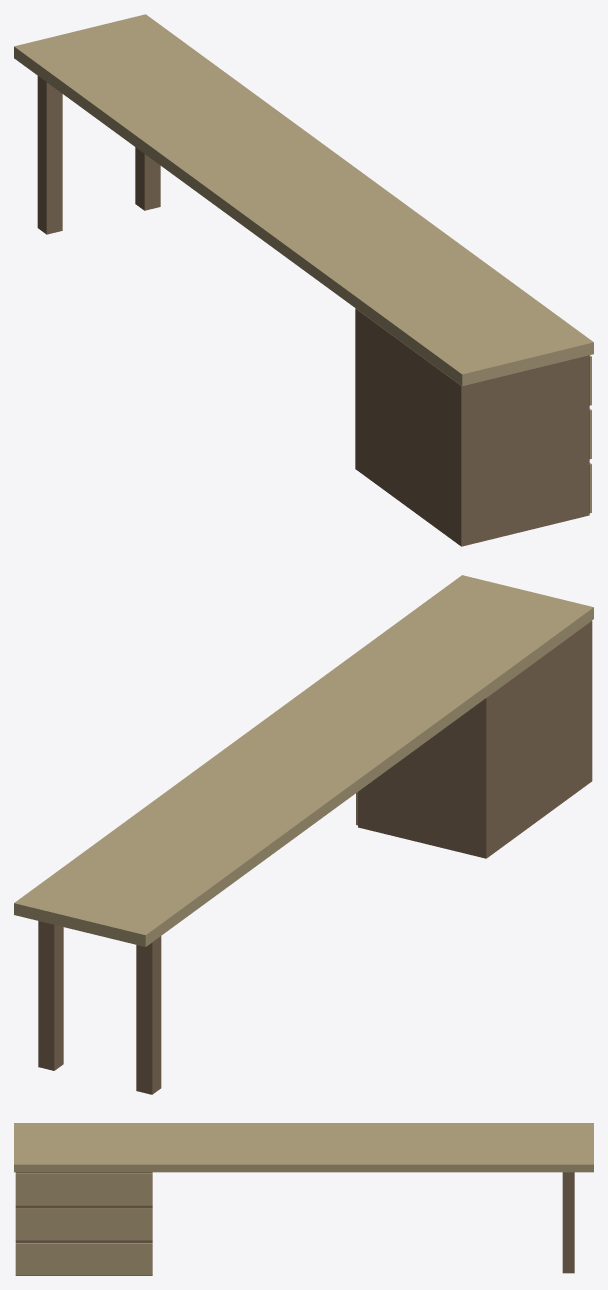
Rendered from Table_Big.fbx.
3 views of the same model, one above another, from view 1: azimuth 30°, elevation 25°; view 2: azimuth 150°, elevation 25°; view 3: azimuth 270°, elevation 25° (orthographic). The views are drawn at different scales.
Visible parts, largest first — view 1: Cube.014; view 2: Cube.014; view 3: Cube.014.
Part boxes in pixels (box(x1,y1,x2,y2)): Cube.014: box(14, 14, 593, 546); Cube.014: box(14, 575, 593, 1094); Cube.014: box(14, 1123, 593, 1275).
Bounding box in the file's own units: 57.15 × 71.78 × 337.
